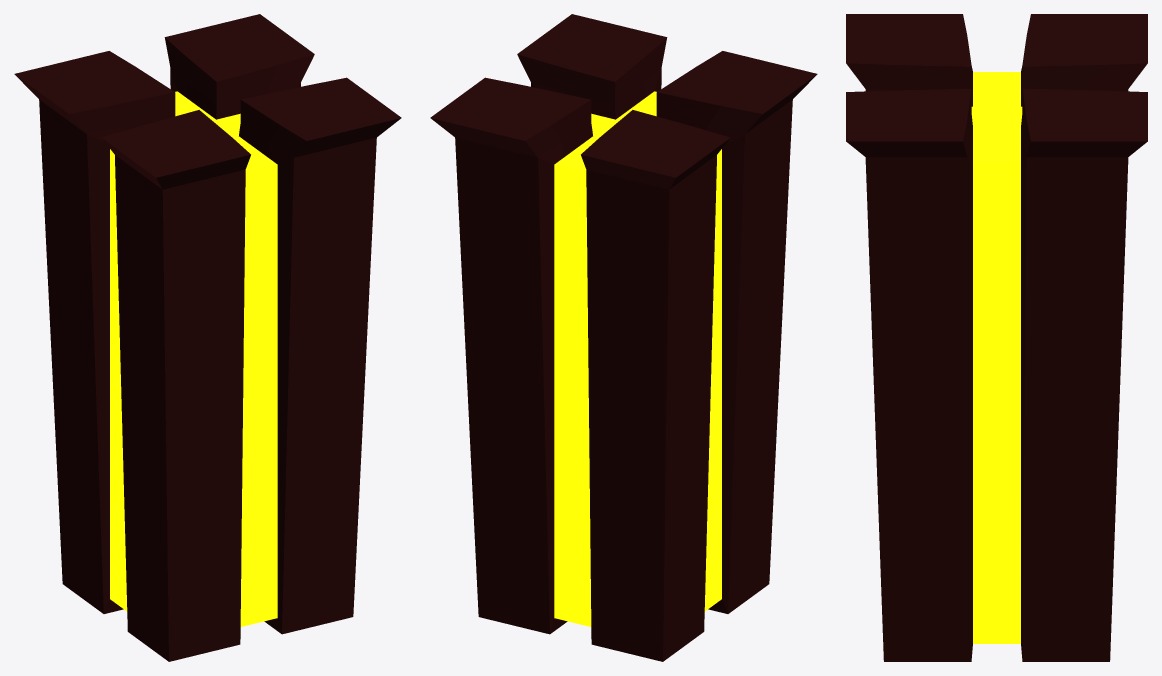
3 views of the same model, side by side, from view 1: azimuth 30°, elevation 25°; view 2: azimuth 150°, elevation 25°; view 3: azimuth 270°, elevation 25° (orthographic). The views are drawn at different scales.
Parts seen in each view (by area): view 1: Cube; view 2: Cube; view 3: Cube.
Part boxes in pixels (<box>): Cube: <box>14,14,401,661</box>; Cube: <box>430,14,817,661</box>; Cube: <box>846,14,1147,661</box>.
Size of the model in its own units: 267 by 523 by 267.
